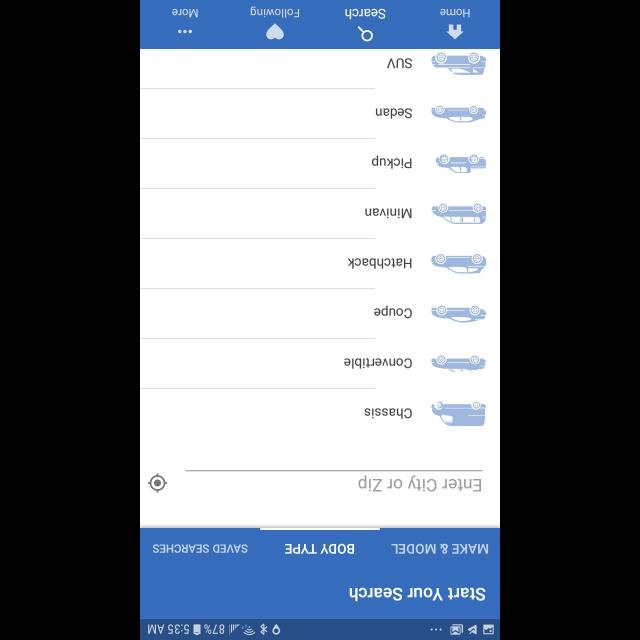icon: (148, 473, 168, 493), (266, 24, 284, 40), (445, 24, 463, 40), (357, 26, 373, 42), (178, 30, 192, 34)
image: (430, 400, 486, 426), (430, 52, 486, 76), (430, 203, 486, 224), (430, 254, 486, 274), (430, 305, 486, 323), (430, 355, 486, 373), (436, 154, 486, 173), (430, 106, 486, 122)
input: (185, 470, 482, 492)
text: (358, 476, 482, 492), (349, 587, 485, 601), (390, 542, 488, 554), (152, 543, 248, 553), (285, 542, 355, 554), (344, 358, 412, 368), (347, 258, 411, 268), (250, 6, 300, 18), (372, 155, 412, 169), (344, 8, 386, 20), (364, 408, 412, 418), (364, 208, 412, 218), (374, 306, 412, 318), (375, 108, 411, 120), (440, 8, 470, 18), (386, 59, 412, 70), (172, 9, 198, 19)
uppertaskbar: (140, 618, 500, 640)
